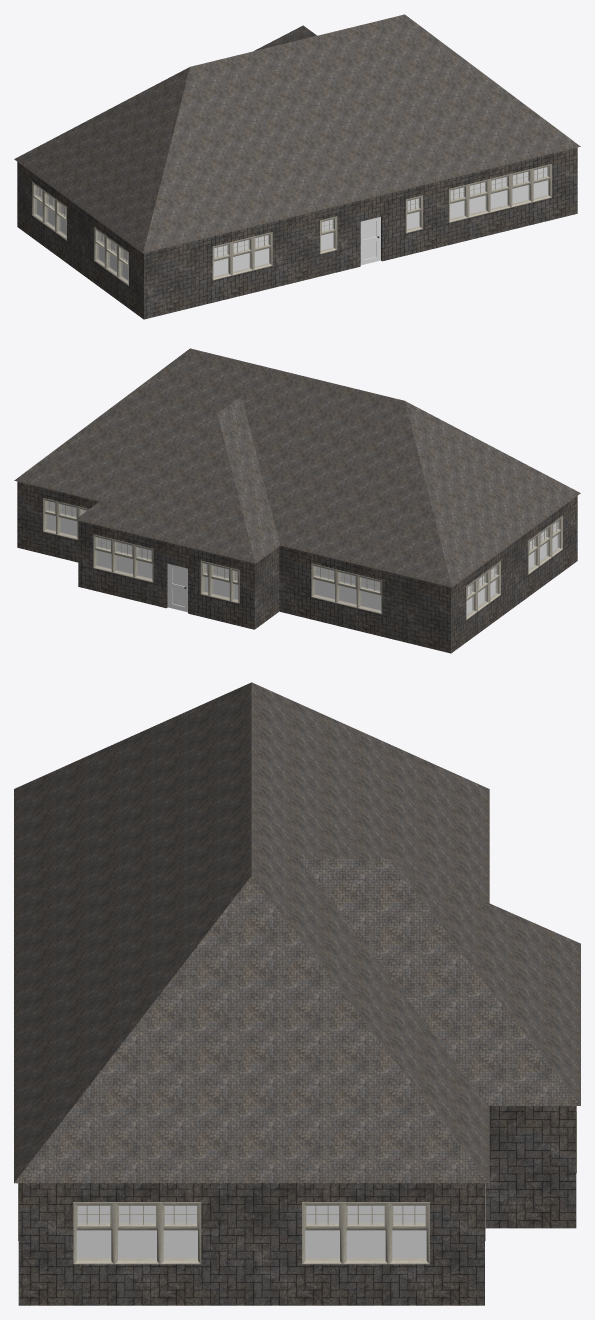
Rendered from RandomHouseOutside06.fbx.
3 renders of one model, top to bottom at view 1: azimuth 30°, elevation 25°; view 2: azimuth 150°, elevation 25°; view 3: azimuth 270°, elevation 25°, orthographic. The views are drawn at different scales.
Parts seen in each view (by area): view 1: Slanted Roof, Outside Plain Wall (Floor 1), FancyWindow_stretched (×15), BuildingFiller, generic_door; view 2: Slanted Roof, Outside Plain Wall (Floor 1), FancyWindow_stretched (×14), BuildingFiller, generic_door; view 3: Slanted Roof, Outside Plain Wall (Floor 1), FancyWindow_stretched (×6), BuildingFiller.
Boxes of the visible parts, x1,y1,x2,y2 form: Slanted Roof: [14, 14, 580, 253]; Outside Plain Wall (Floor 1): [17, 147, 577, 319]; FancyWindow_stretched (×15): [32, 164, 551, 285]; BuildingFiller: [37, 167, 547, 279]; generic_door: [360, 217, 380, 265]; Slanted Roof: [14, 348, 580, 587]; Outside Plain Wall (Floor 1): [17, 481, 577, 653]; FancyWindow_stretched (×14): [43, 498, 562, 619]; BuildingFiller: [47, 501, 557, 613]; generic_door: [167, 564, 187, 612]; Slanted Roof: [14, 682, 580, 1183]; Outside Plain Wall (Floor 1): [18, 1106, 576, 1305]; FancyWindow_stretched (×6): [73, 1202, 429, 1264]; BuildingFiller: [76, 1205, 426, 1257].
Size of the model in its own units: 20.4 by 8 by 12.4.
